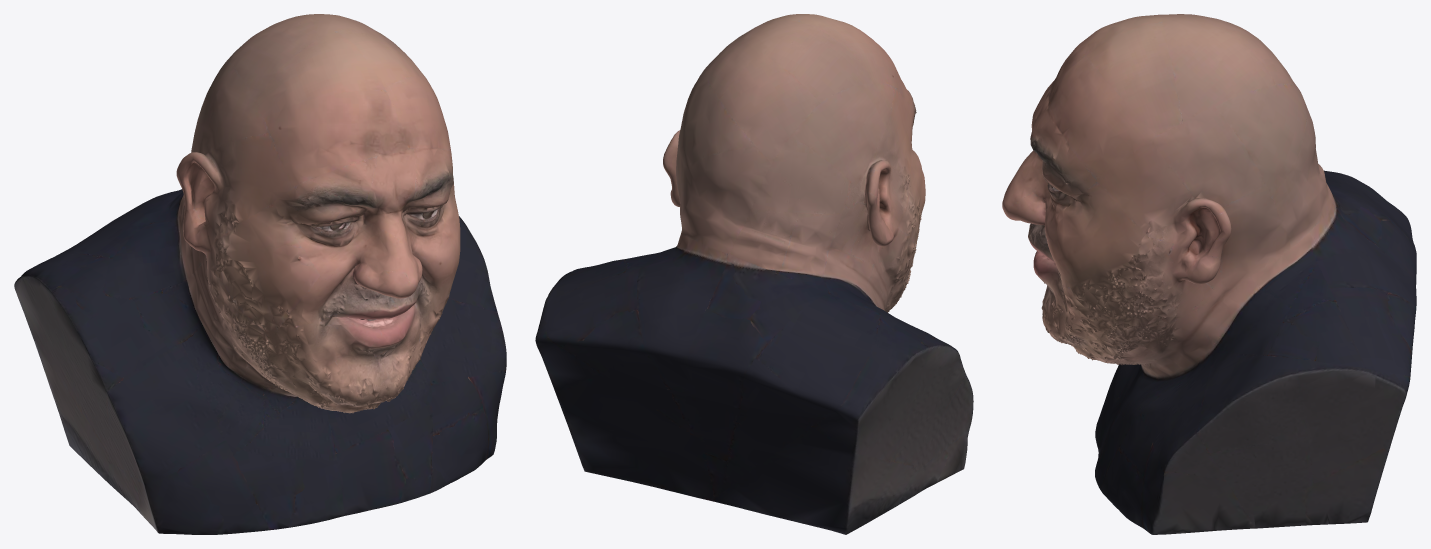
Rendered from boss-head.glb.
3 renders of one model, left to right at view 1: azimuth 30°, elevation 25°; view 2: azimuth 150°, elevation 25°; view 3: azimuth 270°, elevation 25°, orthographic. The views are drawn at different scales.
Parts seen in each view (by area): view 1: mesh_node; view 2: mesh_node; view 3: mesh_node.
Boxes of the visible parts, bbox=[...] form: mesh_node: bbox=[14, 14, 506, 534]; mesh_node: bbox=[535, 14, 973, 534]; mesh_node: bbox=[1002, 14, 1416, 534].
Bounding box in the file's own units: 1.75 × 1.9 × 1.62.
Materials: 1 (1 with a texture image).
